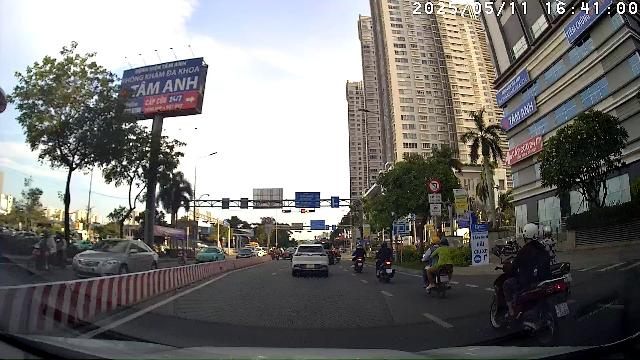103c-cam-oto-re-trai: (427, 178, 441, 193)
